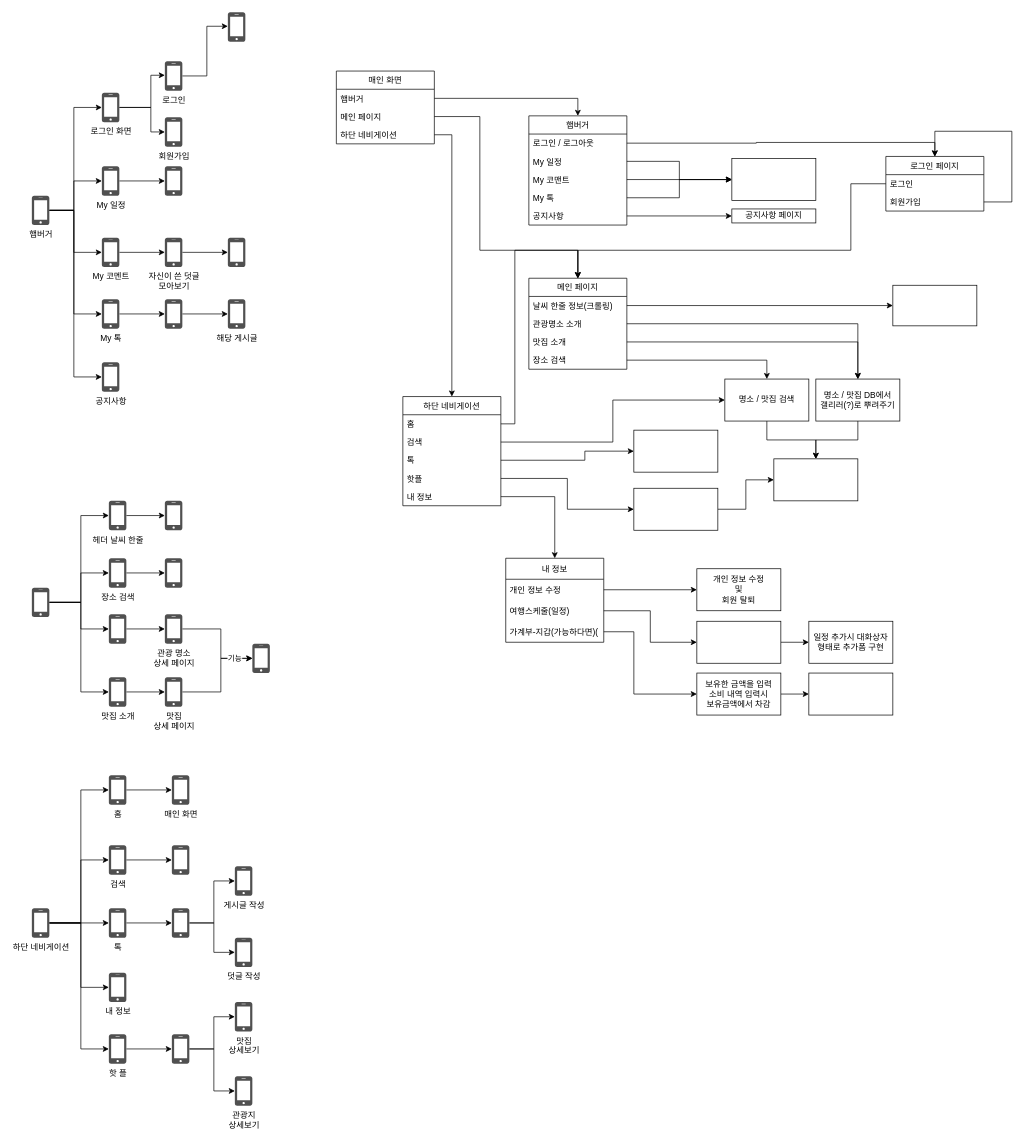
Some shapes in this 1030 by 1142 pixel diagram are drawn without their labels. The centre of each missing label's shape, as x and y in pixels:
"갯수만 표시 or 일정 페이지 이동 작성 덧글 모아보기 작성 게시글 모아보기" belongs at (773,179).
"게시글 리스트" belongs at (180,922).
"관광 명소" belongs at (117,628).
"구글 지도" belongs at (173,572).
"구현 미지정" belongs at (850,693).
"날씨 상세 정보" belongs at (173,515).
"날씨 정보 상세 보기 페이지 이동 (API 활용)" belongs at (934,305).
"덧글을 단 게시글" belongs at (236,252).
"리뷰(별점 + 내용)" belongs at (261,658).
"메인 화면" belongs at (40,602).
"명소 / 맛집 상세보기 페이지 인스타 사진 크롤링 별점 / 덧글 기능 추가" belongs at (815,479).
"명소/맛집 DB전체 검색" belongs at (180,859).
"여행스케줄 리스트로 구현" belongs at (738,642).
"일정 세부 페이지" belongs at (173,180).
"자신이 쓴 게시글 모아보기" belongs at (173,313).
"자유 게시판 게시글 작성 덧글 작성 기능 구현" belongs at (675,450).
"지역별 관광지/맛집" belongs at (180,1048).
"지역별 명소 / 맛집 리스트 출력" belongs at (675,509).
"회원 정보 수정 회원 탈퇴" belongs at (236,26).
